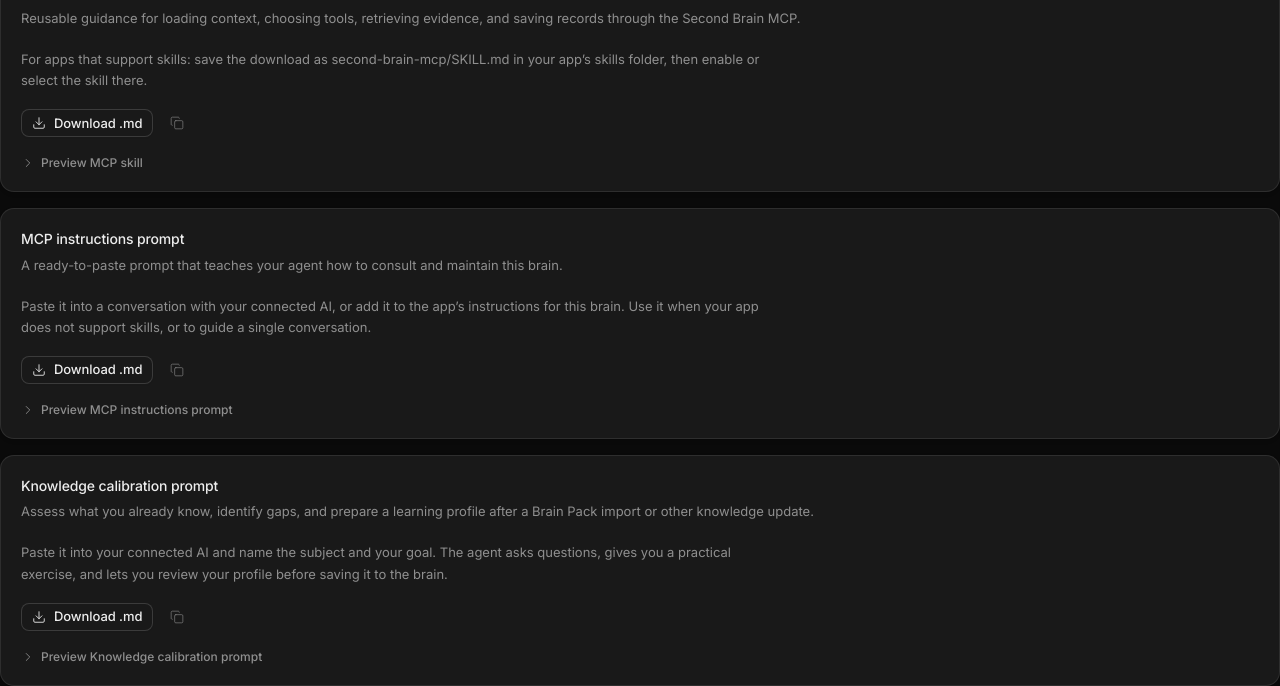
Scenario: agent resources › downloads, copies and previews the complete Knowledge calibration prompt from the same source
(page scrolled)
Click the button named "Copy Knowledge calibration prompt" at (177, 617), box [161,601,193,633]
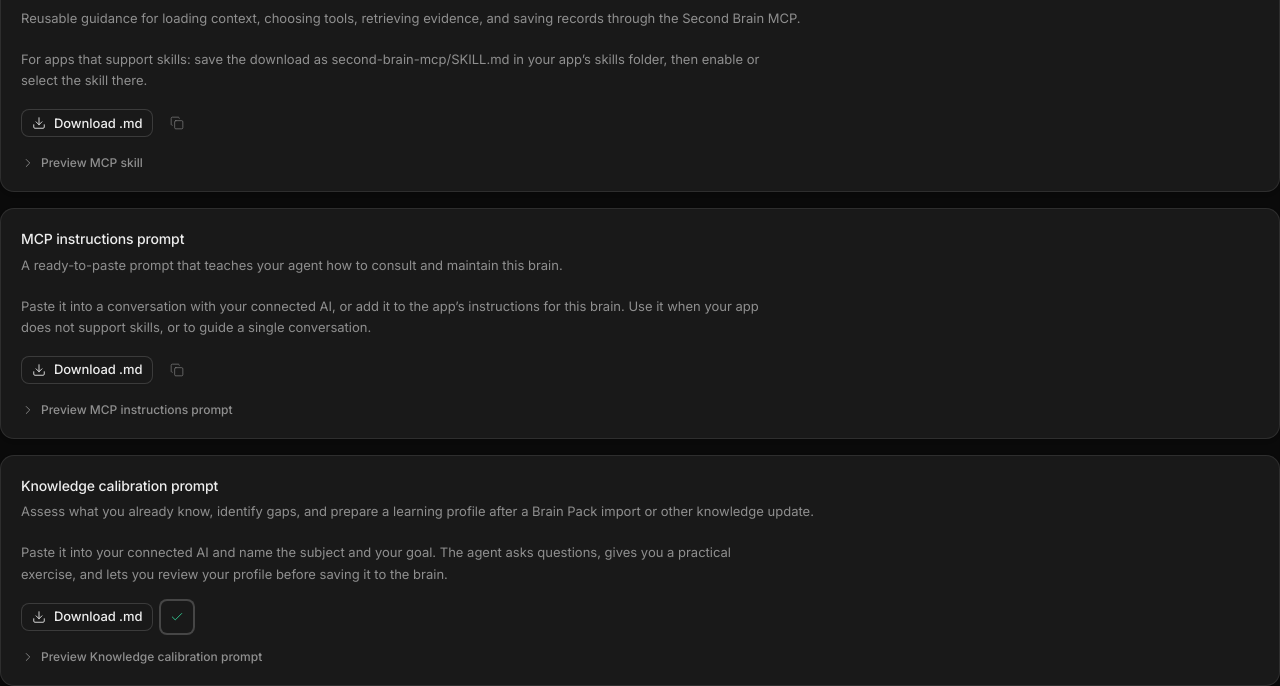
Click the heading "Preview Knowledge calibration prompt" at (142, 657), box [21,649,262,665]
(page scrolled)
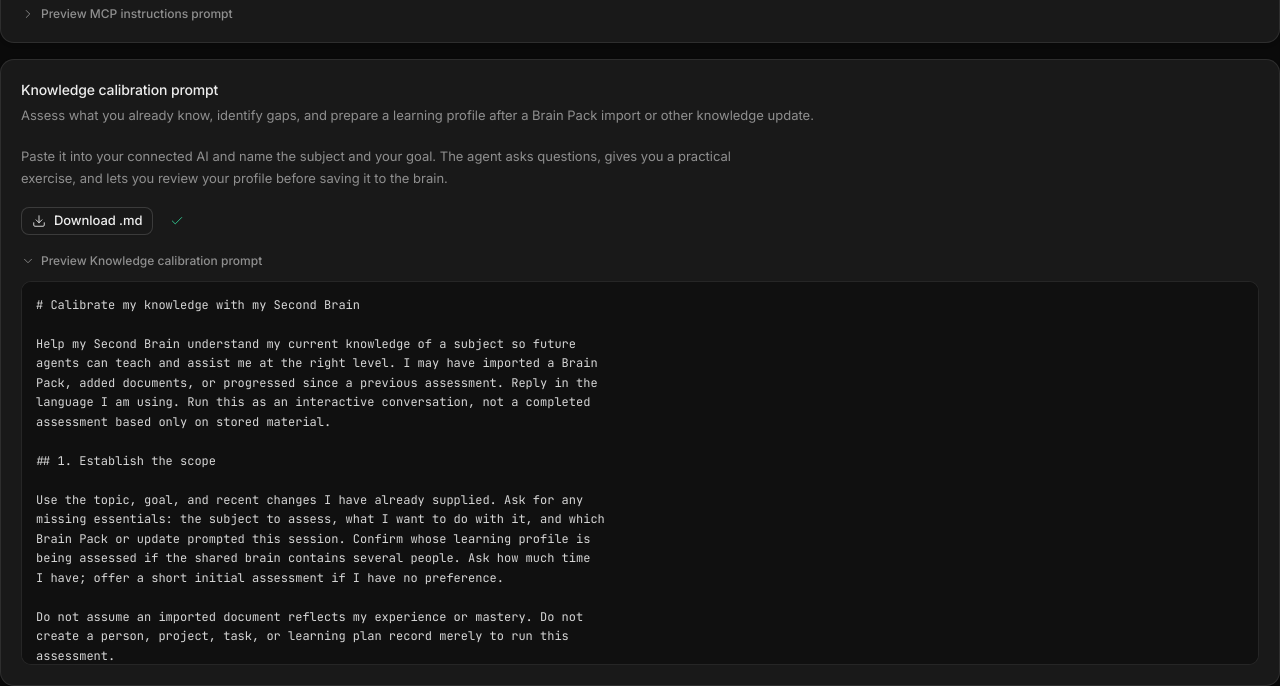
Now the text named "Knowledge calibration prompt" is shown, box [21,281,1259,665]
